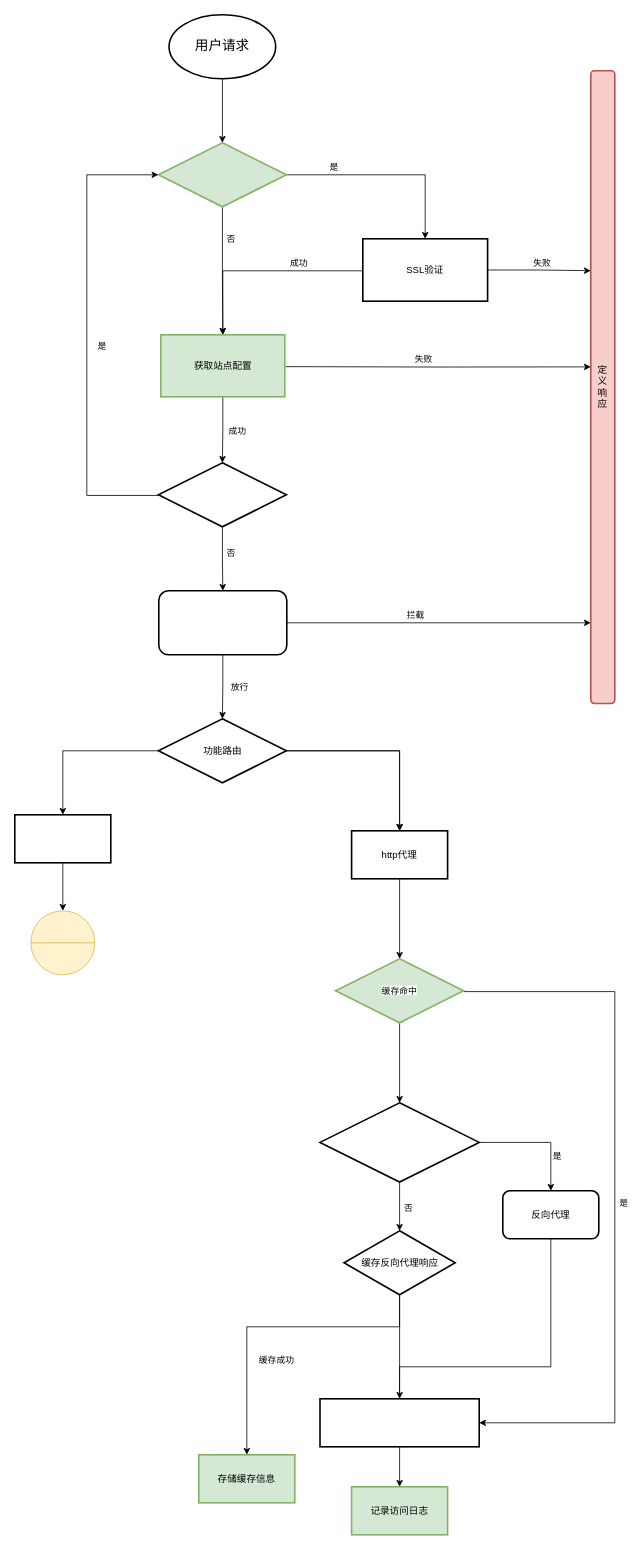
The diagram is 641 pixels wide and 1549 high, and some of its shapes have lost their labels. Here are the shapes that lost their labels. From the top down, the centre of each, then its label:
point 222,174: SSL请求
point 222,494: http请求 并要求重定向https
point 222,622: WAF功能
point 62,838: OSS存储
point 399,1142: 其他进程缓存中
point 399,1422: 响应
